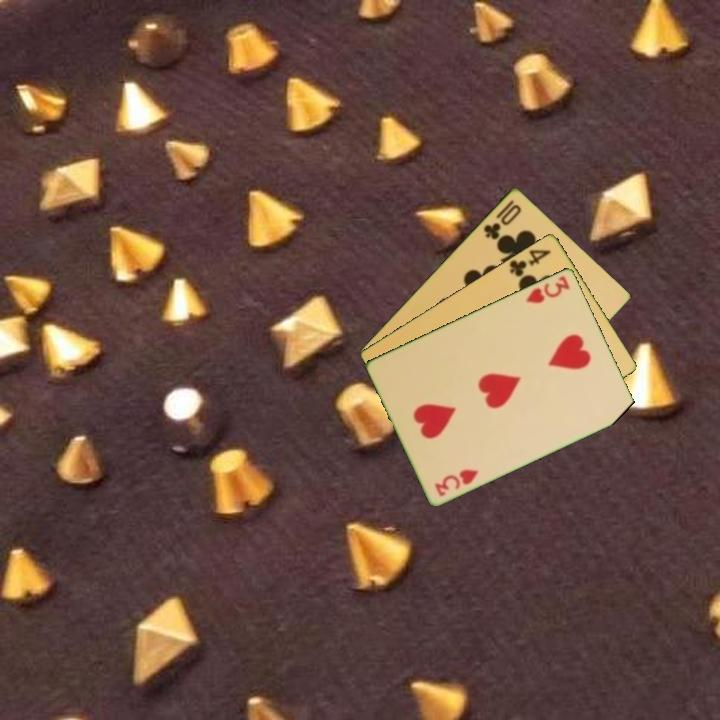10c: (480, 196, 524, 242)
3h: (522, 272, 573, 306), (431, 465, 482, 499)
4c: (506, 245, 554, 279)
